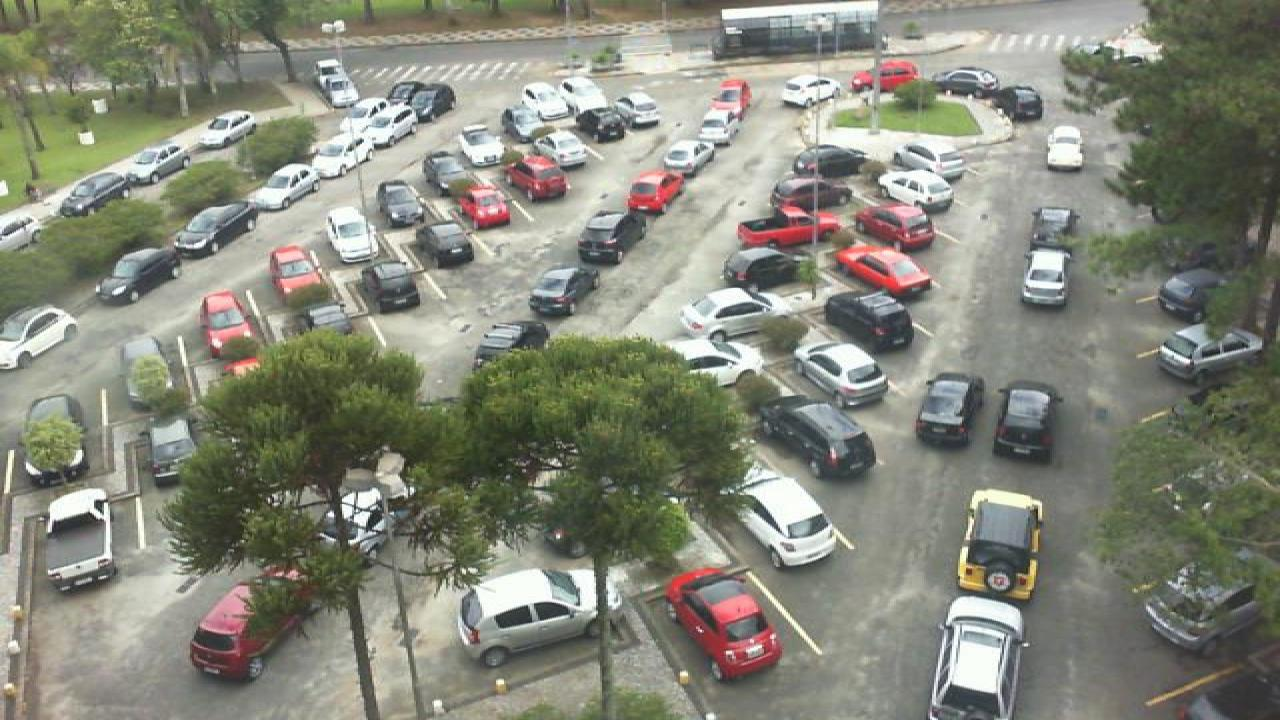Car: (454, 567, 622, 668), (664, 568, 782, 682), (924, 597, 1030, 720), (190, 580, 300, 682), (1144, 565, 1262, 658), (738, 461, 836, 569), (954, 487, 1042, 602), (760, 394, 876, 478), (40, 487, 118, 592), (18, 393, 92, 487), (1158, 324, 1264, 386), (794, 340, 890, 406), (682, 286, 792, 341), (822, 287, 916, 351), (990, 382, 1062, 462), (916, 371, 984, 450), (0, 305, 80, 371), (118, 334, 182, 416), (834, 245, 934, 296), (94, 247, 180, 305), (670, 339, 768, 387), (170, 202, 256, 256), (736, 205, 836, 251), (472, 320, 550, 372), (144, 414, 200, 486), (854, 202, 936, 251), (574, 210, 648, 264), (198, 290, 258, 356), (528, 263, 600, 316), (58, 171, 140, 216), (1158, 270, 1226, 324), (722, 246, 802, 290), (244, 163, 318, 209), (324, 206, 382, 263), (1020, 246, 1072, 308), (266, 243, 324, 298), (504, 153, 570, 201), (414, 219, 474, 271), (116, 142, 192, 183), (364, 260, 420, 314), (878, 169, 954, 208), (792, 145, 872, 180), (772, 174, 854, 207), (454, 180, 510, 228), (188, 110, 258, 148), (628, 170, 684, 215), (896, 143, 966, 178), (374, 180, 424, 228), (422, 151, 474, 197), (308, 138, 366, 178), (402, 82, 456, 123), (352, 117, 410, 155), (1032, 206, 1080, 250), (850, 60, 918, 91), (460, 124, 506, 168), (988, 84, 1044, 120), (662, 140, 714, 178), (522, 82, 574, 120), (782, 73, 838, 108), (1044, 125, 1086, 171), (498, 103, 550, 140), (572, 107, 628, 141), (302, 300, 352, 338), (560, 76, 612, 112), (934, 68, 1000, 96), (616, 90, 662, 127), (376, 96, 422, 132), (698, 106, 738, 145), (316, 71, 358, 108), (712, 79, 750, 116), (310, 57, 348, 81)
